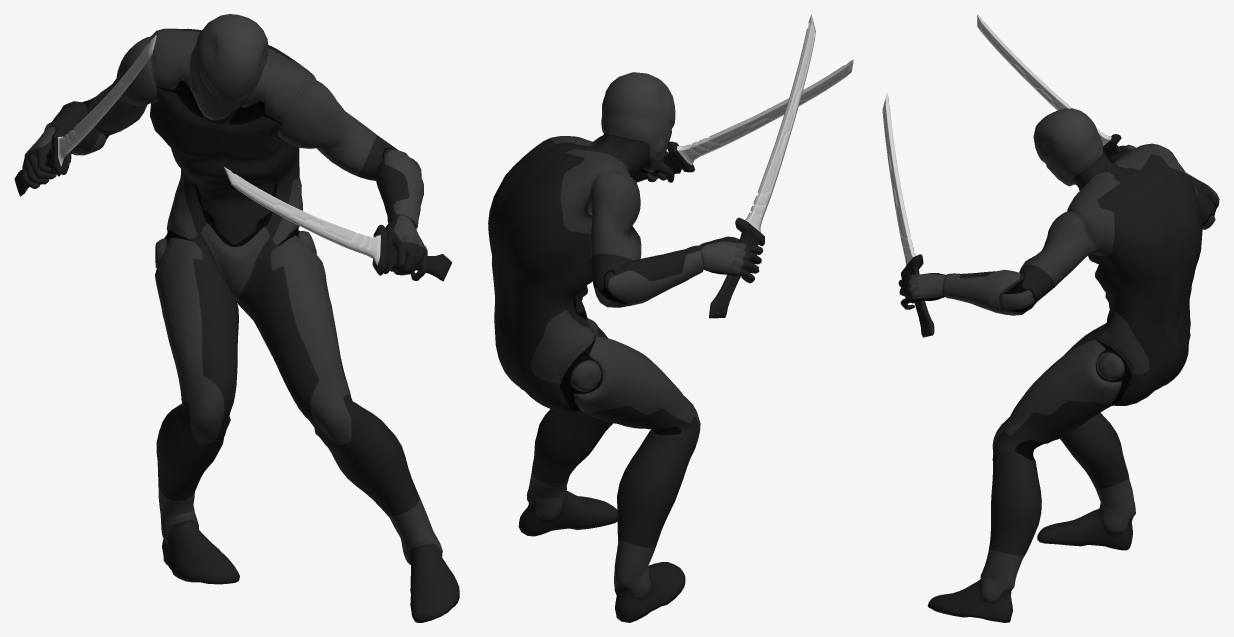
3 views of the same model, side by side, from view 1: azimuth 30°, elevation 25°; view 2: azimuth 150°, elevation 25°; view 3: azimuth 270°, elevation 25° (orthographic). The views are drawn at different scales.
Parts seen in each view (by area): view 1: Cyborg_Ninja_Killer, Sword_l, Sword_l001; view 2: Cyborg_Ninja_Killer, Sword_l001, Sword_l; view 3: Cyborg_Ninja_Killer, Sword_l, Sword_l001.
Part boxes in pixels (<box>): Cyborg_Ninja_Killer: <box>21,14,459,622</box>; Sword_l: <box>224,167,452,281</box>; Sword_l001: <box>14,35,156,196</box>; Cyborg_Ninja_Killer: <box>488,72,763,622</box>; Sword_l001: <box>709,14,815,318</box>; Sword_l: <box>633,59,853,182</box>; Cyborg_Ninja_Killer: <box>898,108,1219,622</box>; Sword_l: <box>882,92,934,337</box>; Sword_l001: <box>977,14,1122,157</box>.
Size of the model in its own units: 96.13 by 171 by 104.
2 materials, 2 textured.
